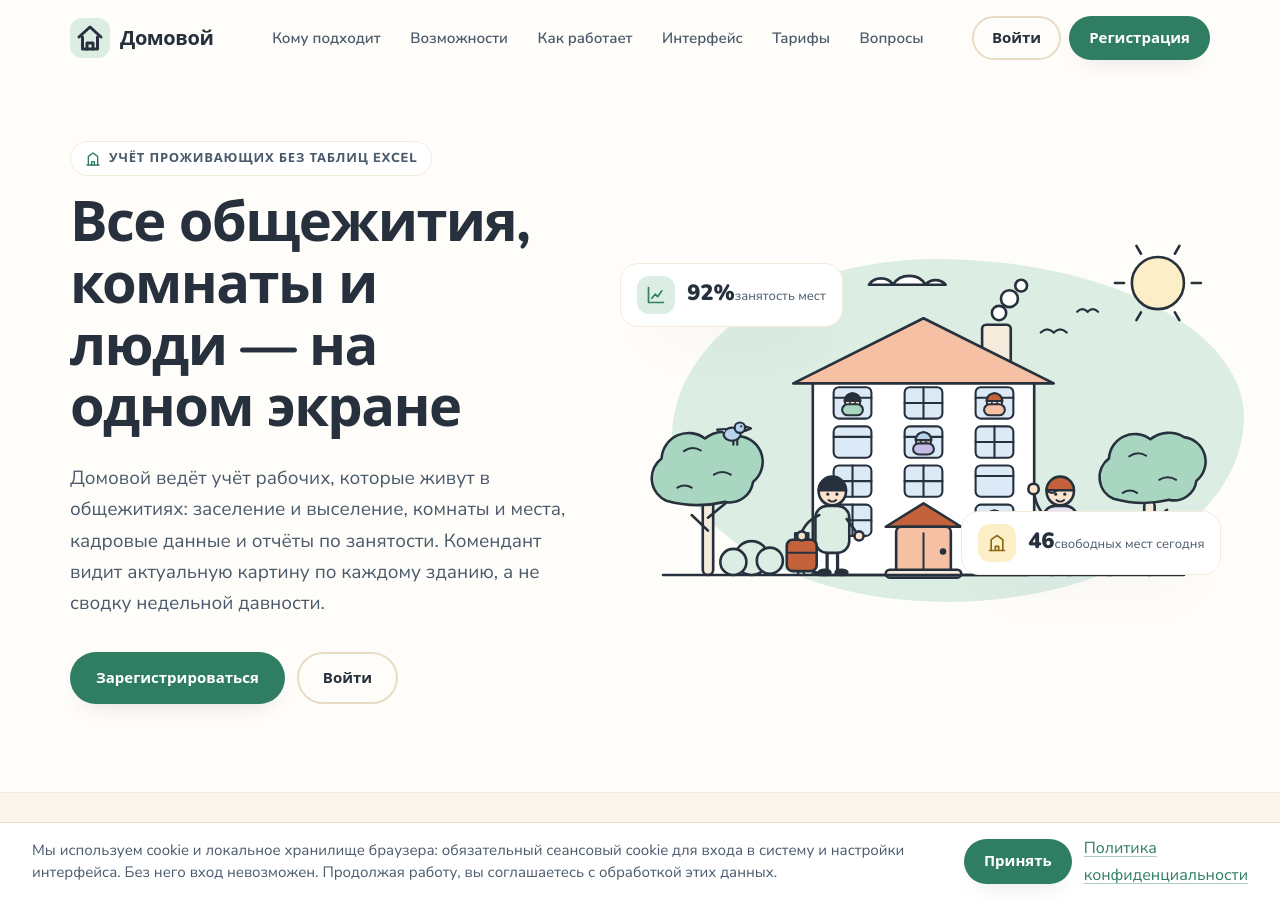
Test: главная страница › открывает форму регистрации в модальном окне с призыва героя
Click the button with test id "hero-register" at (177, 678), box [70,652,285,704]
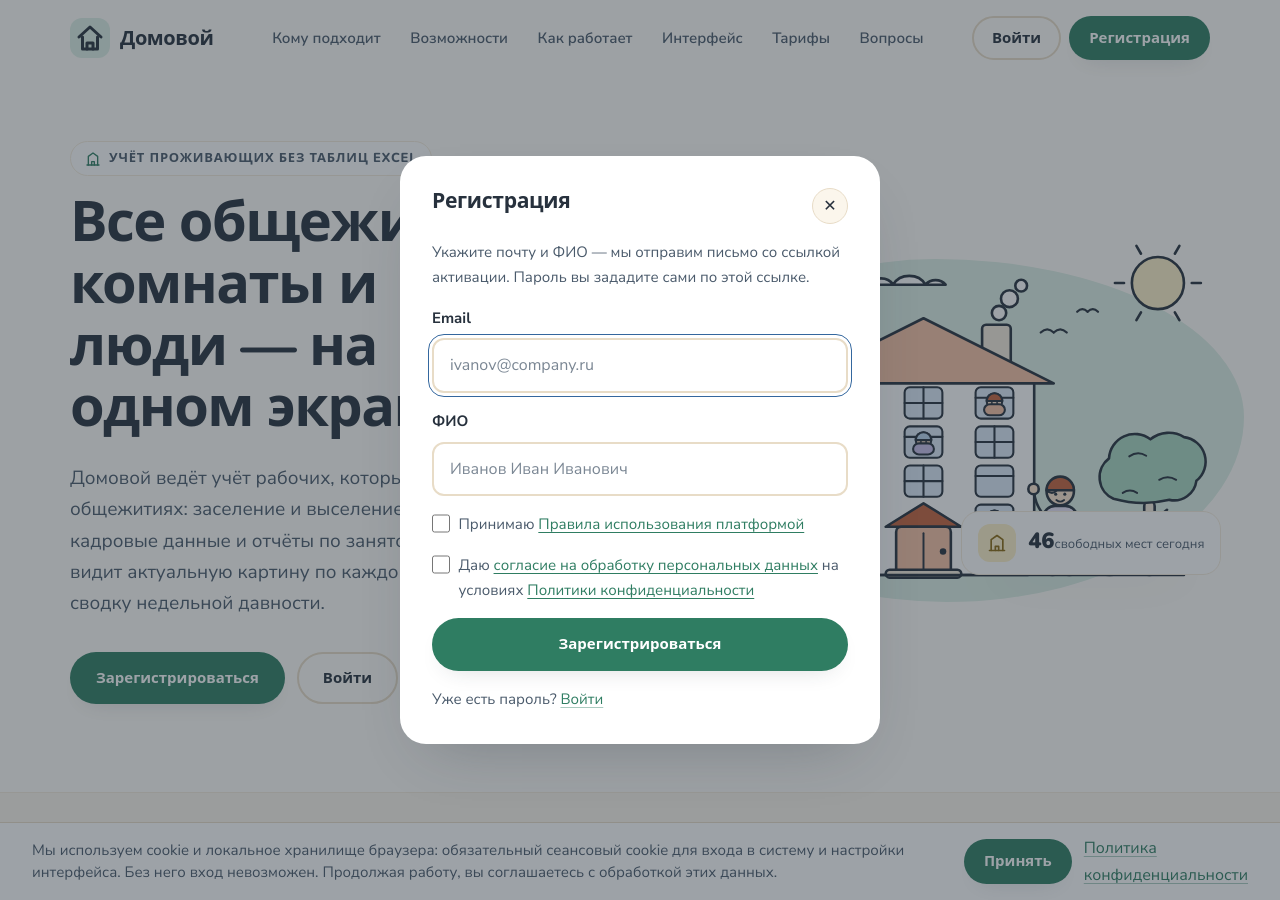
Now the heading with test id "auth-modal-title" reads "Регистрация", box [432,187,570,215]
Now the field with test id "register-email" is shown, box [432,338,848,393]
Now the field with test id "register-full-name" is shown, box [432,442,848,496]
